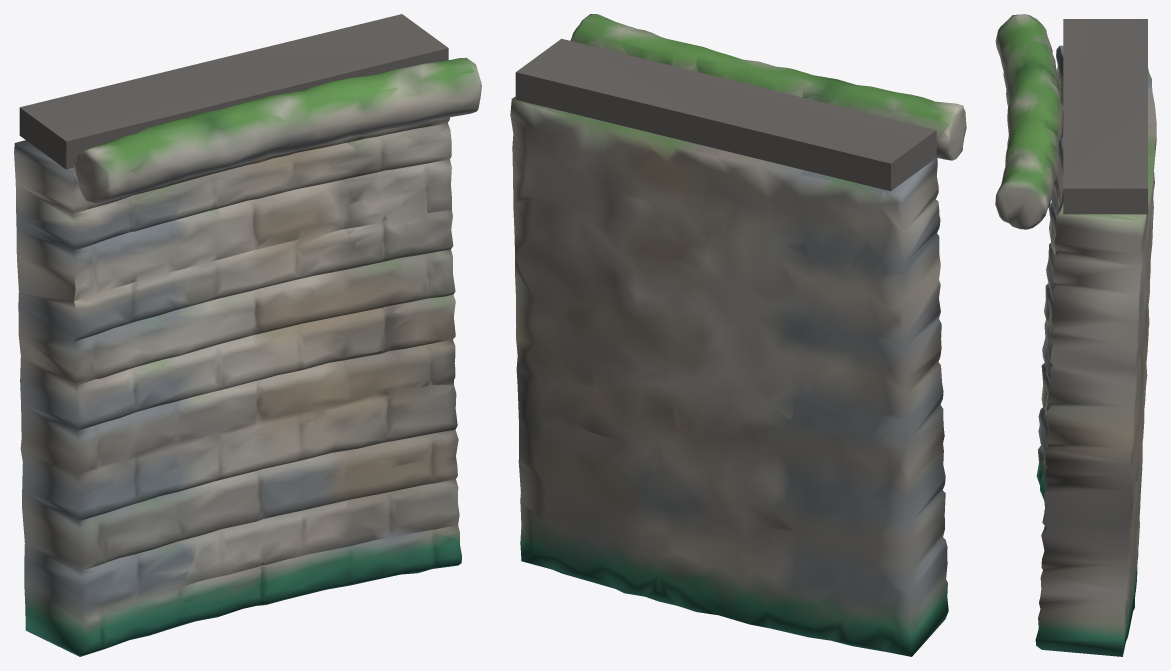
Rendered from grotto_basin_wall_lod1.glb.
3 renders of one model, left to right at view 1: azimuth 30°, elevation 25°; view 2: azimuth 150°, elevation 25°; view 3: azimuth 270°, elevation 25°, orthographic. The views are drawn at different scales.
Parts seen in each view (by area): view 1: grotto_basin_wall.001; view 2: grotto_basin_wall.001; view 3: grotto_basin_wall.001.
Part boxes in pixels (box(x1,y1,x2,y2)): grotto_basin_wall.001: box(14, 14, 481, 656); grotto_basin_wall.001: box(510, 14, 966, 656); grotto_basin_wall.001: box(995, 14, 1156, 656).
Size of the model in its own units: 29.71 by 36.86 by 11.42.
